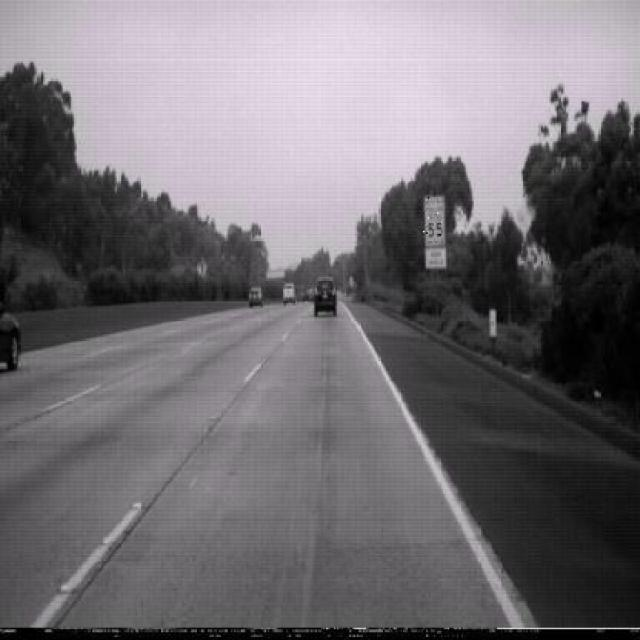truckSpeedLimit55: (423, 192, 445, 248)
